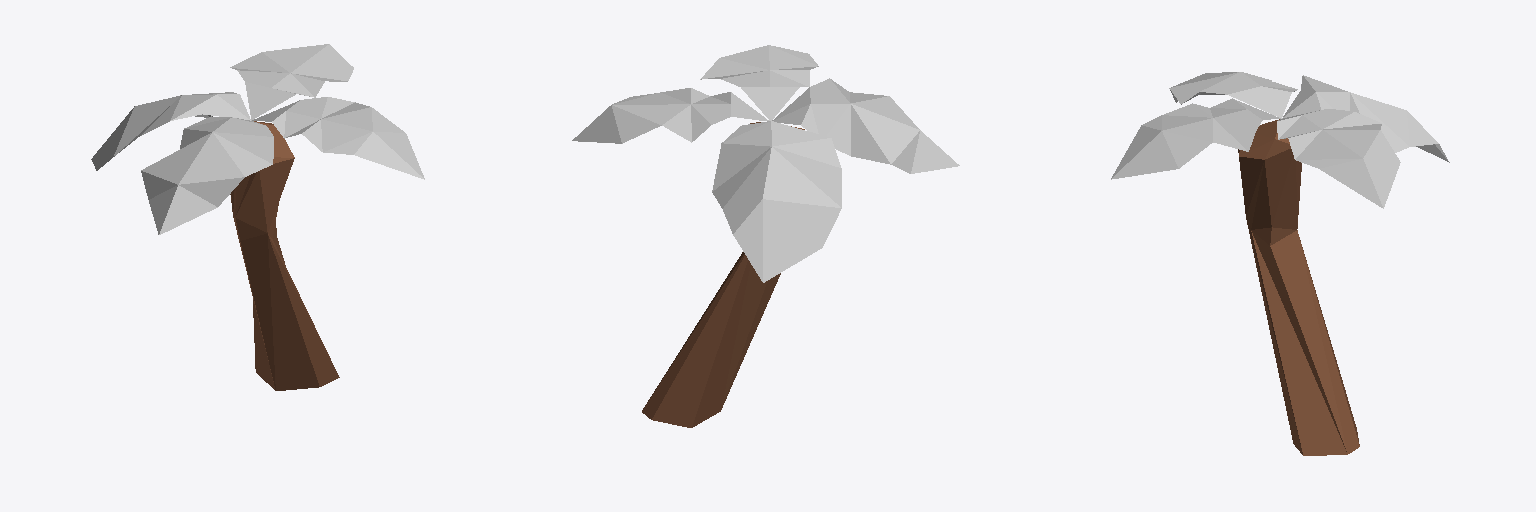
3 views of the same model, side by side, from view 1: azimuth 30°, elevation 25°; view 2: azimuth 150°, elevation 25°; view 3: azimuth 270°, elevation 25° (orthographic).
Visible parts, largest first — view 1: Geod0.Geod0.009_Geod0.015; view 2: Geod0.Geod0.009_Geod0.015; view 3: Geod0.Geod0.009_Geod0.015.
Part boxes in pixels (x1,y1,x2,y2): Geod0.Geod0.009_Geod0.015: (91,44,424,390); Geod0.Geod0.009_Geod0.015: (572,45,959,427); Geod0.Geod0.009_Geod0.015: (1111,72,1449,455).
Bounding box in the file's own units: 0.039 × 0.0395 × 0.0395.
Materials: 2 (1 with a texture image).